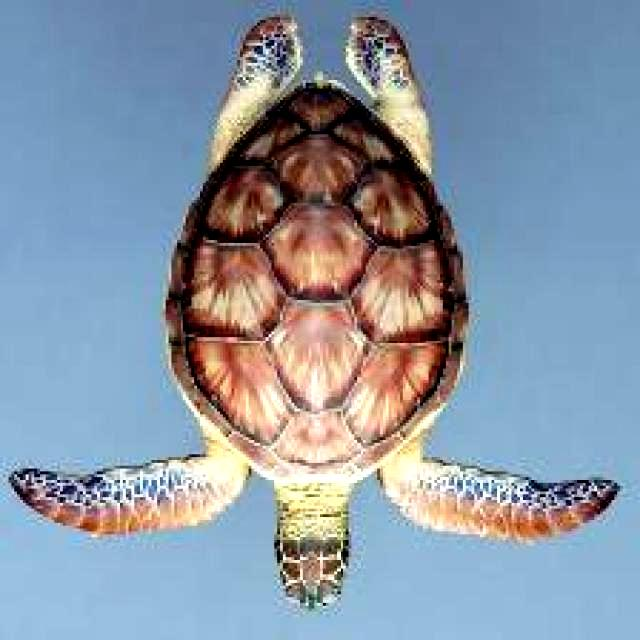Sea turtle: (22, 12, 628, 610)
